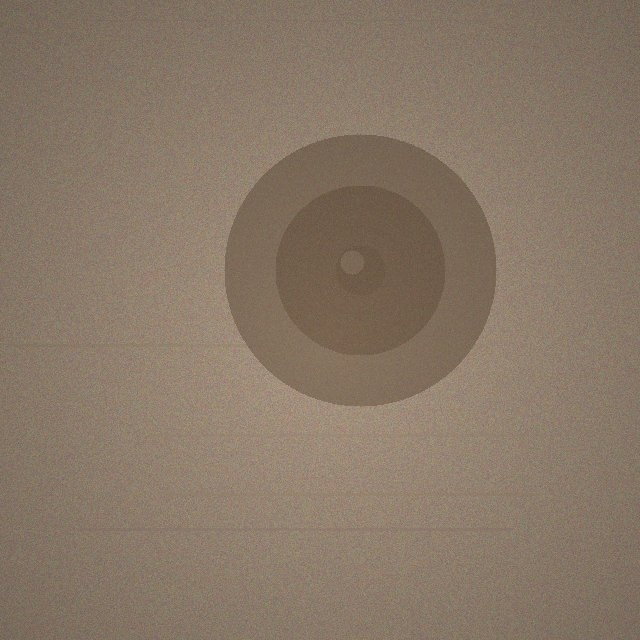good: (224, 134, 496, 406)
